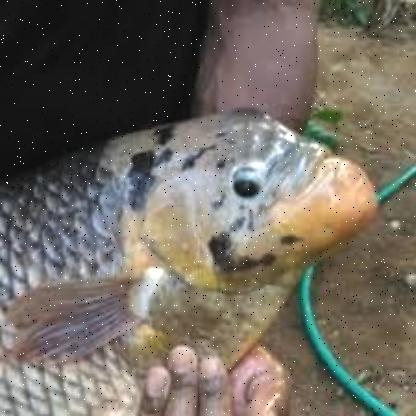gurame: (4, 114, 380, 416)
